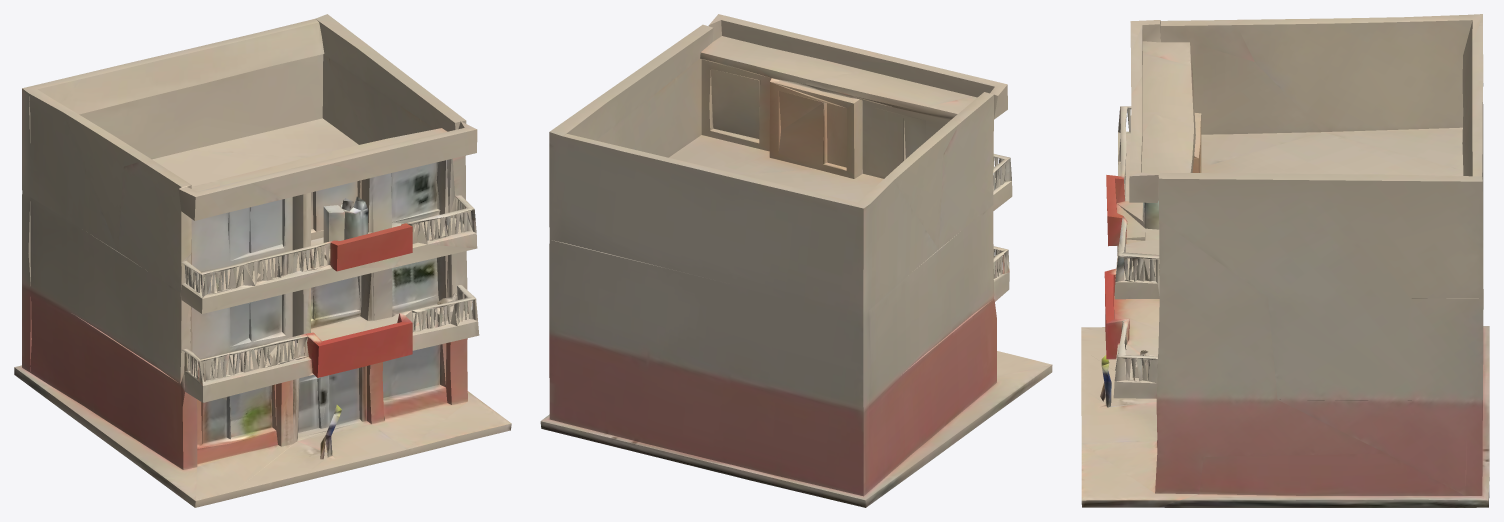
File: cityBuildingV2.glb
3 views of the same model, side by side, from view 1: azimuth 30°, elevation 25°; view 2: azimuth 150°, elevation 25°; view 3: azimuth 270°, elevation 25° (orthographic). The views are drawn at different scales.
Visible parts, largest first — view 1: model; view 2: model; view 3: model.
Part boxes in pixels (x1=…): model: x1=14, y1=14, x2=511, y2=507; model: x1=540, y1=14, x2=1052, y2=507; model: x1=1081, y1=14, x2=1489, y2=507.
Bounding box in the file's own units: 1.89 × 1.65 × 1.88.
1 material, 1 textured.
